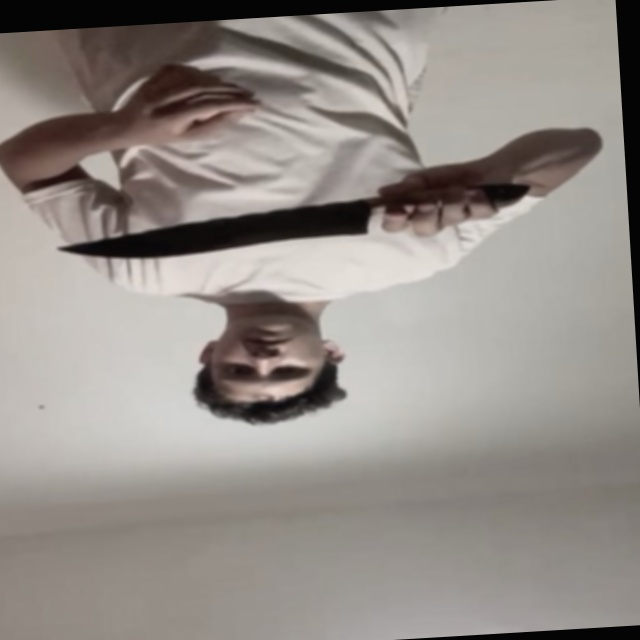Sharp-Object: (51, 194, 374, 266)
